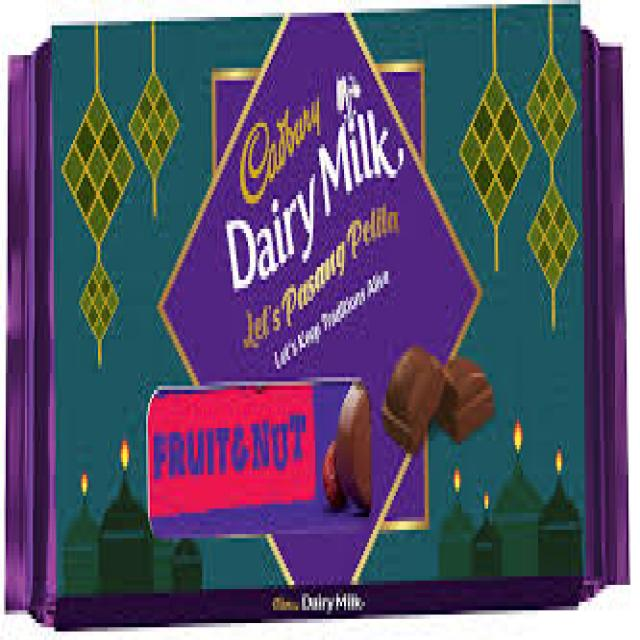cadbury: (9, 14, 622, 636)
